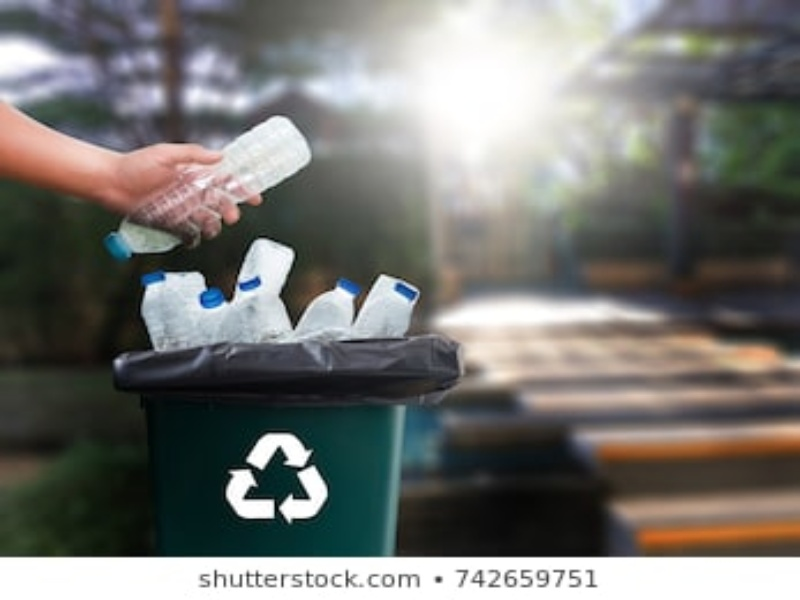bottle-cap: (104, 233, 135, 261), (200, 288, 226, 307), (336, 278, 362, 296), (394, 281, 418, 300), (140, 271, 165, 283), (242, 276, 262, 288)
plastic-bottle: (104, 115, 313, 260), (238, 237, 301, 310), (292, 278, 366, 336), (141, 271, 197, 347), (233, 276, 297, 340), (361, 285, 421, 341), (199, 284, 244, 344)
